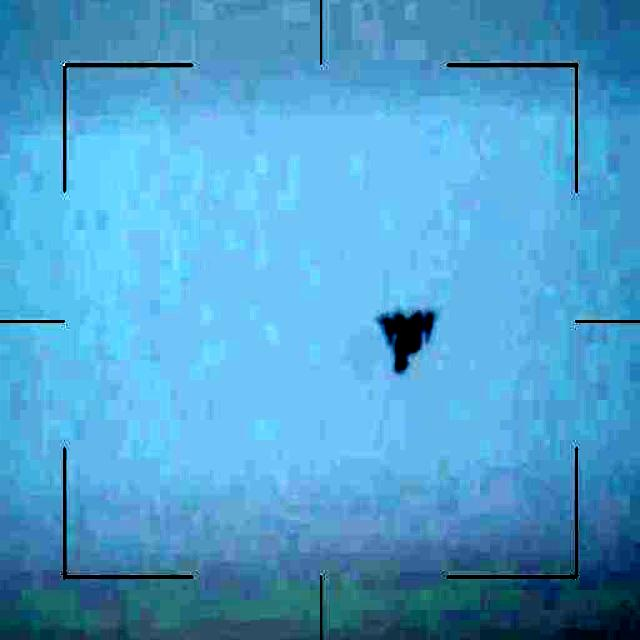bird: (372, 301, 440, 376)
